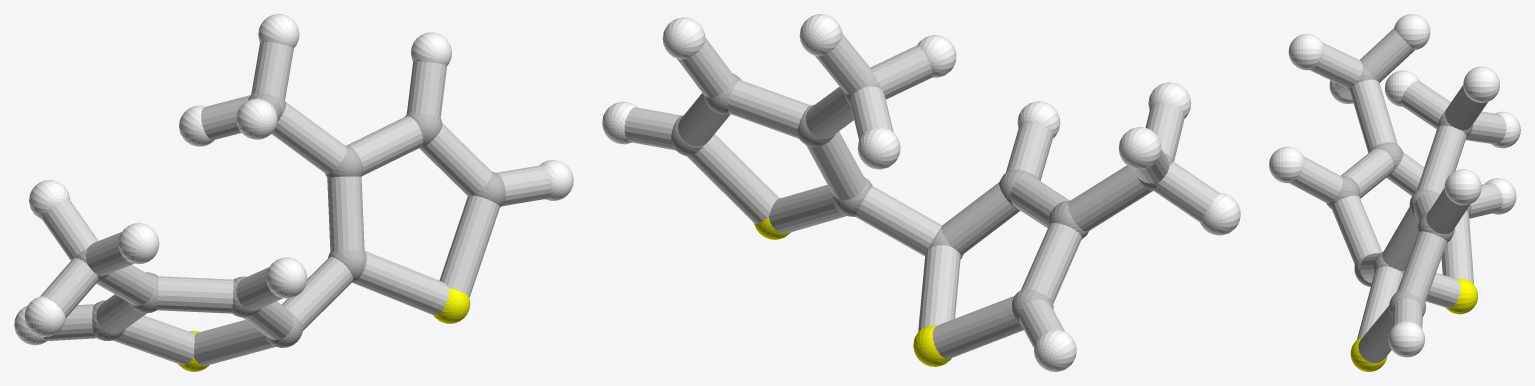
File: Methylthiophene_Phi_50_Theta_110_Methylthiophene.glb
The picture shows the model from 3 angles, left to right: view 1: azimuth 30°, elevation 25°; view 2: azimuth 150°, elevation 25°; view 3: azimuth 270°, elevation 25°; orthographic projection. The views are drawn at different scales.
Parts seen in each view (by area): view 1: grp7965, grp3621, grp1, grp7241; view 2: grp7965, grp3621, grp1, grp7241; view 3: grp7965, grp3621, grp1, grp7241.
Part boxes in pixels (box(x1,y1,x2,y2)): grp7965: box(40, 41, 551, 365); grp3621: box(14, 14, 573, 345); grp1: box(75, 94, 505, 347); grp7241: box(178, 288, 470, 371); grp7965: box(624, 33, 1219, 358); grp3621: box(602, 14, 1240, 371); grp1: box(671, 73, 1173, 325); grp7241: box(754, 197, 951, 366); grp7965: box(1289, 28, 1506, 363); grp3621: box(1269, 14, 1520, 357); grp1: box(1326, 65, 1472, 316); grp7241: box(1350, 279, 1477, 371).
Size of the model in its own units: 9.67 by 5.15 by 4.1.
